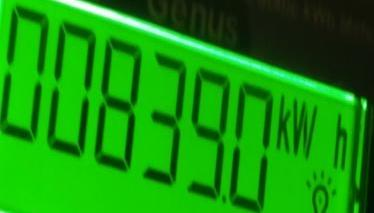.: (274, 92, 352, 173)
0: (220, 194, 229, 205)
1: (46, 25, 98, 156), (0, 10, 50, 144), (230, 88, 273, 204)
4: (142, 51, 189, 185)
9: (93, 34, 142, 169)
:: (187, 68, 232, 194)
